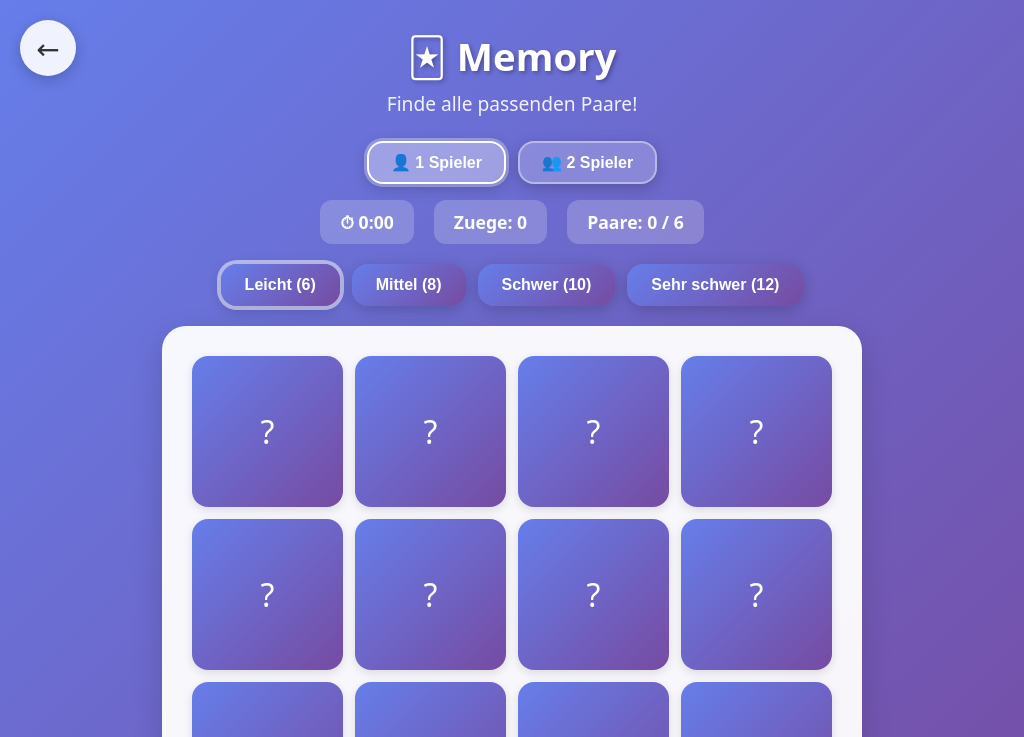
Test: Memory component › increments moves only on second card flip
Expected: the text with class "stat" reads "Zuege: 0", [434,200,547,244]
Click the 1st element with class "memory-card": click(268, 432) [192,356,343,507]
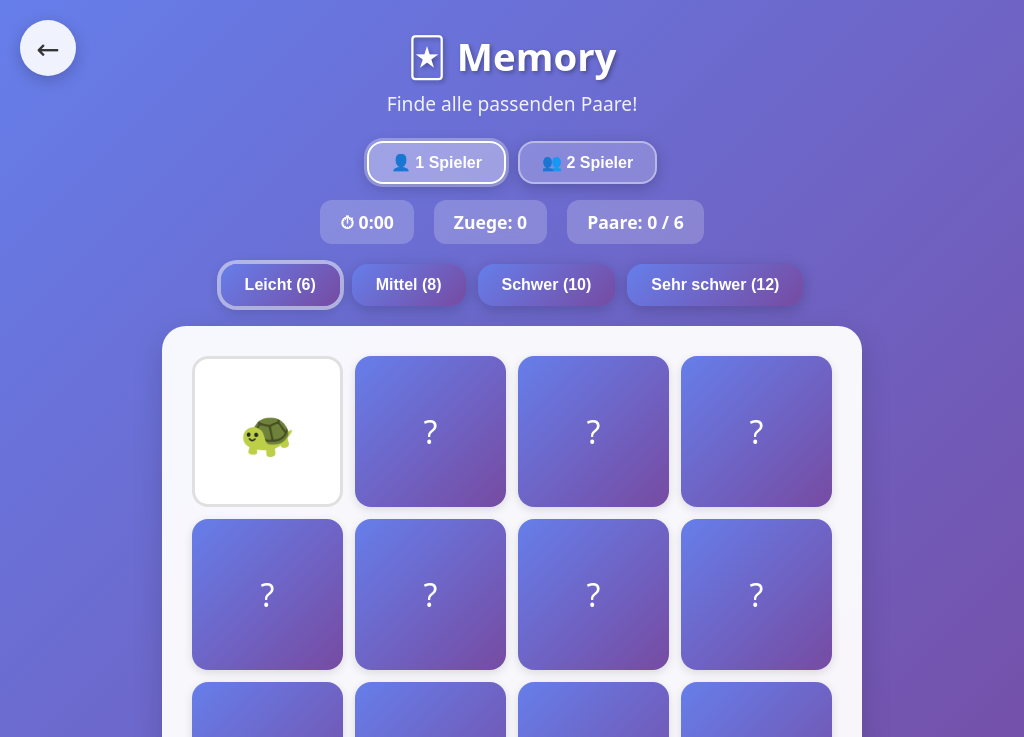
Expected: the text with class "stat" reads "Zuege: 0", [434,200,547,244]
Click the 2nd element with class "memory-card": click(430, 432) [355,356,506,507]
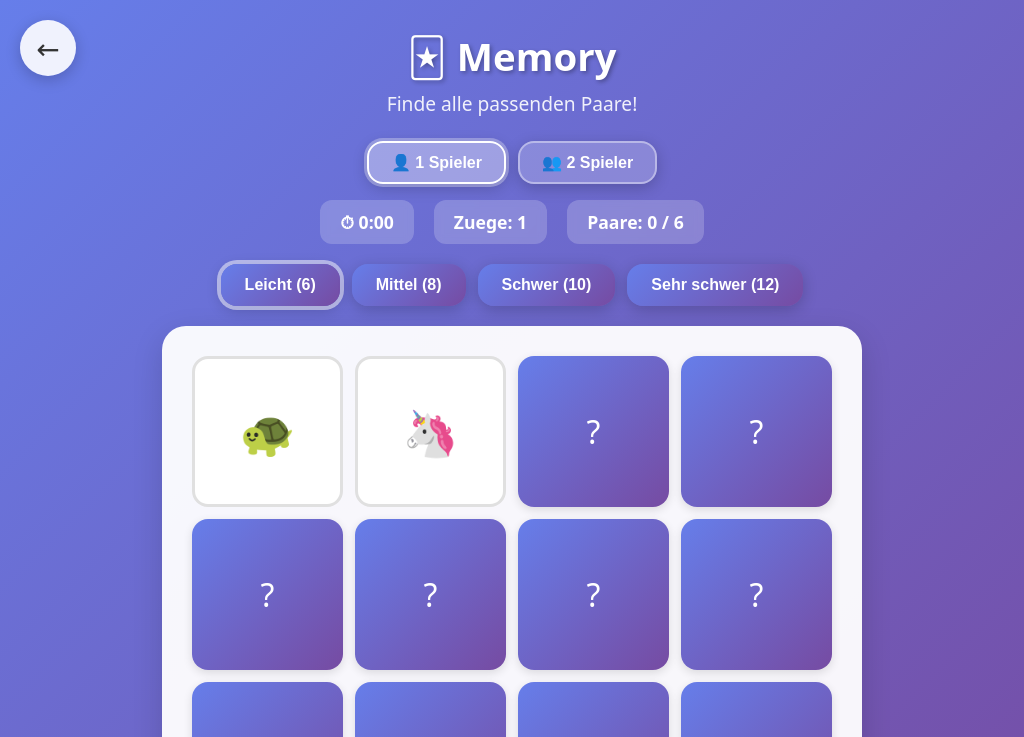
Result: the text with class "stat" reads "Zuege: 1" at [434,200,547,244]
